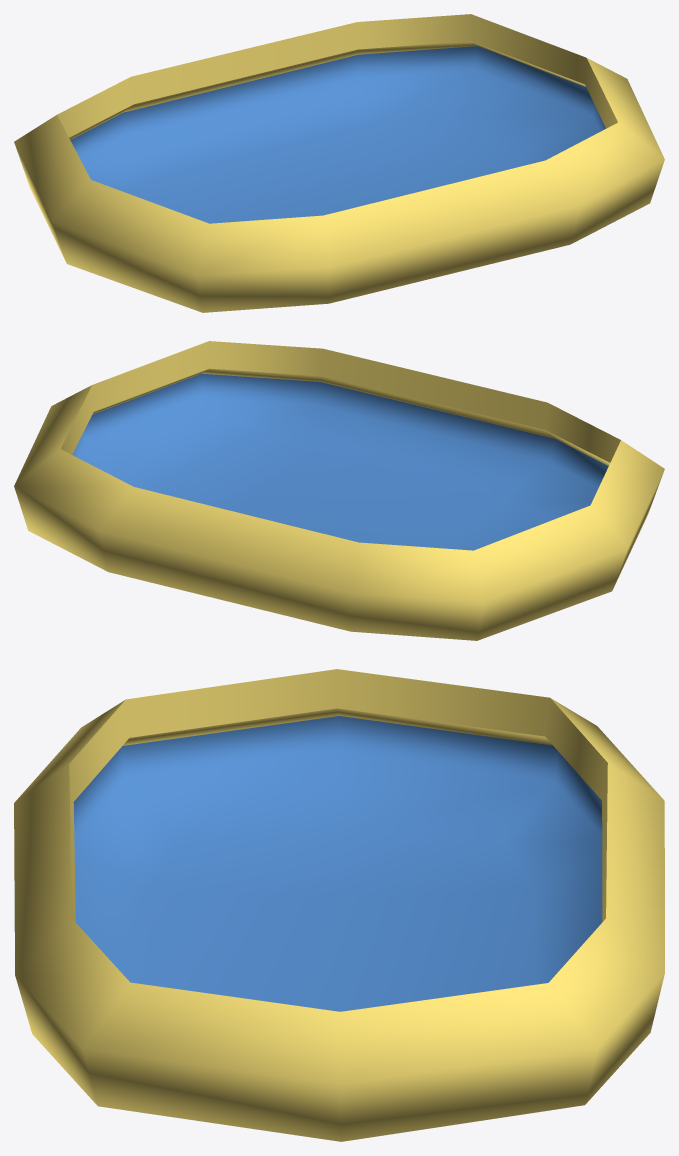
File: Livingroom2_DogBed.fbx
3 renders of one model, top to bottom at view 1: azimuth 30°, elevation 25°; view 2: azimuth 150°, elevation 25°; view 3: azimuth 270°, elevation 25°, orthographic. The views are drawn at different scales.
Visible parts, largest first — view 1: Livingroom2_DogBed; view 2: Livingroom2_DogBed; view 3: Livingroom2_DogBed.
Boxes of the visible parts, x1,y1,x2,y2 form: Livingroom2_DogBed: (14,14,664,312); Livingroom2_DogBed: (14,341,664,640); Livingroom2_DogBed: (14,669,664,1141).
Size of the model in its own units: 133 by 25.16 by 92.06.
